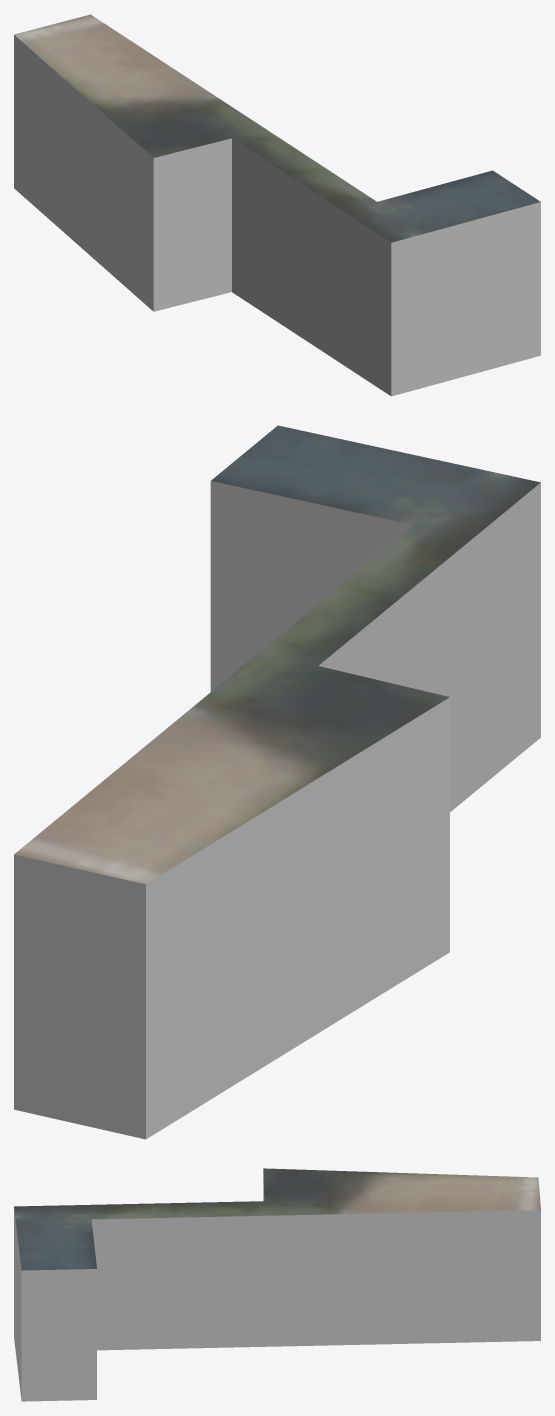
The model's file is DEBW_0010007THWB.gltf.
The picture shows the model from 3 angles, top to bottom: view 1: azimuth 30°, elevation 25°; view 2: azimuth 150°, elevation 25°; view 3: azimuth 270°, elevation 25°; orthographic projection. The views are drawn at different scales.
Parts seen in each view (by area): view 1: Z_UP; view 2: Z_UP; view 3: Z_UP.
Part boxes in pixels (<box>): Z_UP: <box>14,14,540,396</box>; Z_UP: <box>14,425,540,1139</box>; Z_UP: <box>14,1168,540,1401</box>.
Bounding box in the file's own units: 6.98 × 4.18 × 15.22.
2 materials, 1 textured.
